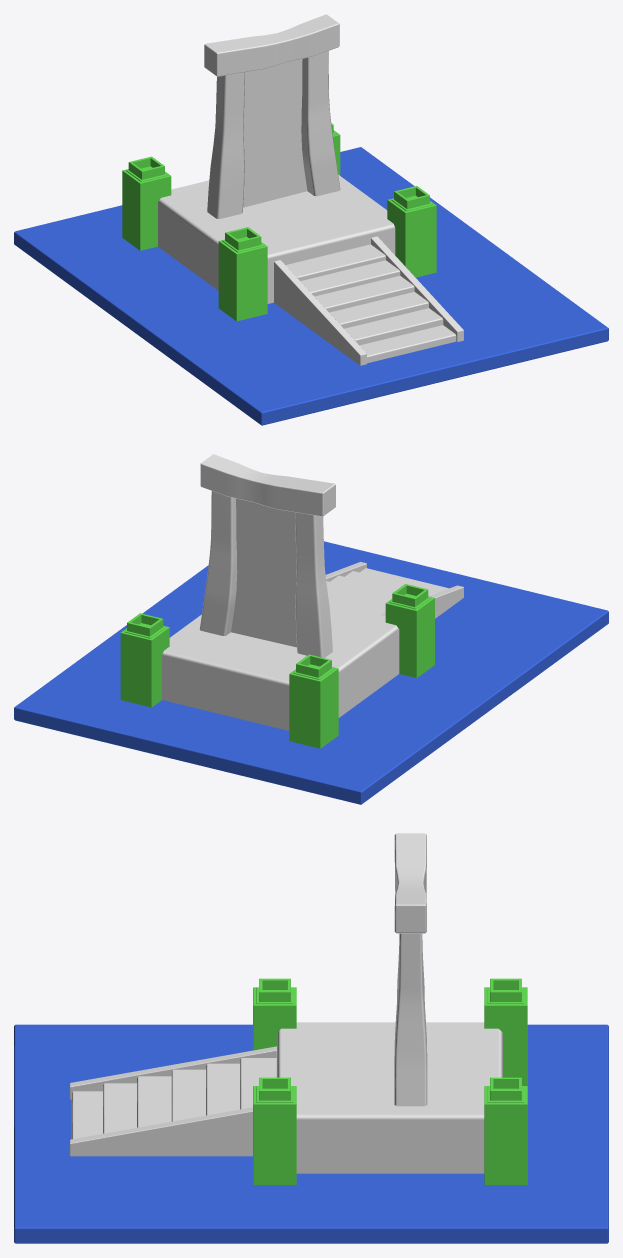
Rendered from portal2.fbx.
3 renders of one model, top to bottom at view 1: azimuth 30°, elevation 25°; view 2: azimuth 150°, elevation 25°; view 3: azimuth 270°, elevation 25°, orthographic. The views are drawn at different scales.
Parts seen in each view (by area): view 1: Portal.001, Portal.000; view 2: Portal.001, Portal.000; view 3: Portal.001.
Boxes of the visible parts, <box> form: Portal.001: <box>14,14,608,425</box>; Portal.000: <box>243,59,307,207</box>; Portal.001: <box>14,454,608,804</box>; Portal.000: <box>231,498,296,647</box>; Portal.001: <box>14,833,608,1243</box>.
Size of the model in its own units: 868 by 546 by 1071.
